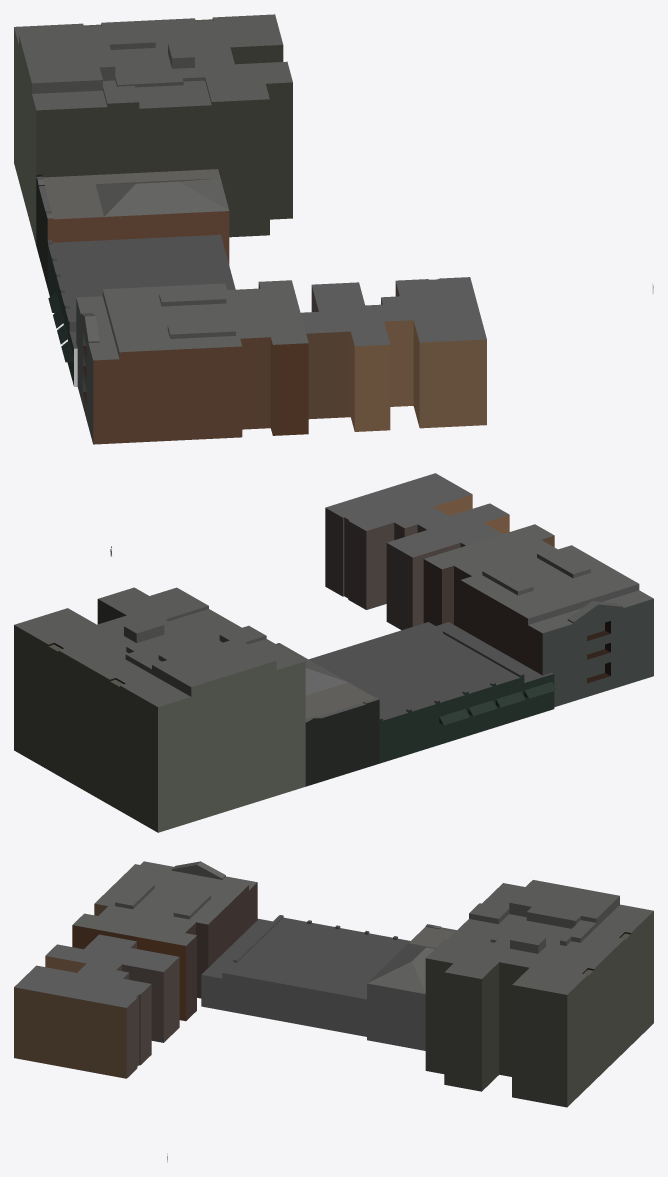
File: 600-georgia-avenue.glb
The picture shows the model from 3 angles, top to bottom: view 1: azimuth 30°, elevation 25°; view 2: azimuth 150°, elevation 25°; view 3: azimuth 270°, elevation 25°; orthographic projection. The views are drawn at different scales.
Parts seen in each view (by area): view 1: LOD0; view 2: LOD0; view 3: LOD0.
Boxes of the visible parts, left/top/right/bottom form: LOD0: left=14, top=14, right=653, bottom=444; LOD0: left=14, top=473, right=653, bottom=832; LOD0: left=14, top=861, right=653, bottom=1162.
Size of what is drawn, in the model's own units: 96.57 by 23.51 by 112.
Materials: 2 (2 with a texture image).
